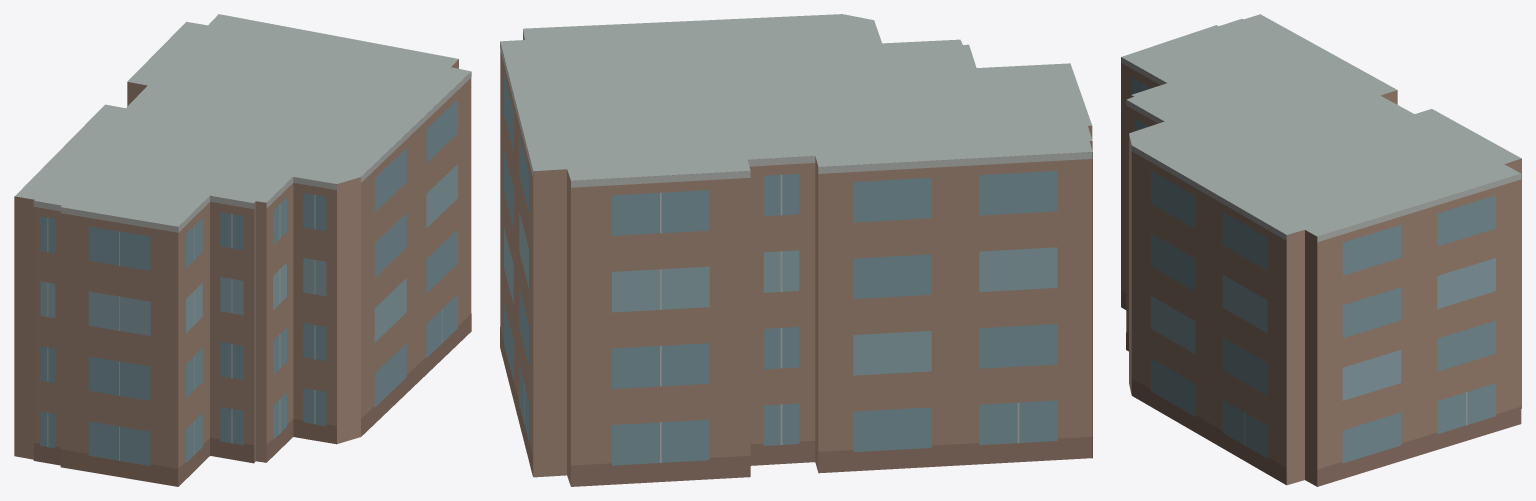
Rendered from survey-upis-32657178.glb.
3 renders of one model, left to right at view 1: azimuth 30°, elevation 25°; view 2: azimuth 150°, elevation 25°; view 3: azimuth 270°, elevation 25°, orthographic. The views are drawn at different scales.
Parts seen in each view (by area): view 1: survey-upis-32657178.tmp; view 2: survey-upis-32657178.tmp; view 3: survey-upis-32657178.tmp.
Part boxes in pixels (x1,y1,x2,y2): survey-upis-32657178.tmp: [14, 14, 471, 486]; survey-upis-32657178.tmp: [500, 14, 1092, 486]; survey-upis-32657178.tmp: [1121, 14, 1521, 486].
Size of the model in its own units: 20.22 by 10.6 by 15.39.
